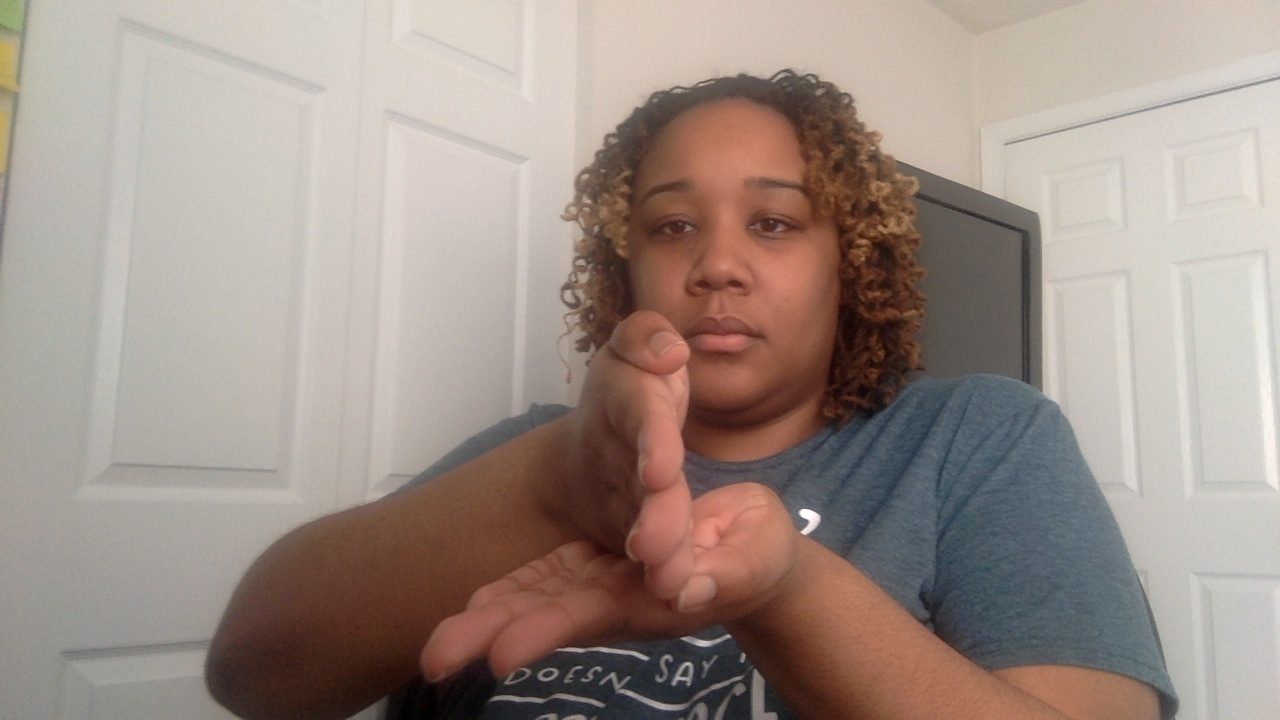stop: (416, 306, 800, 684)
